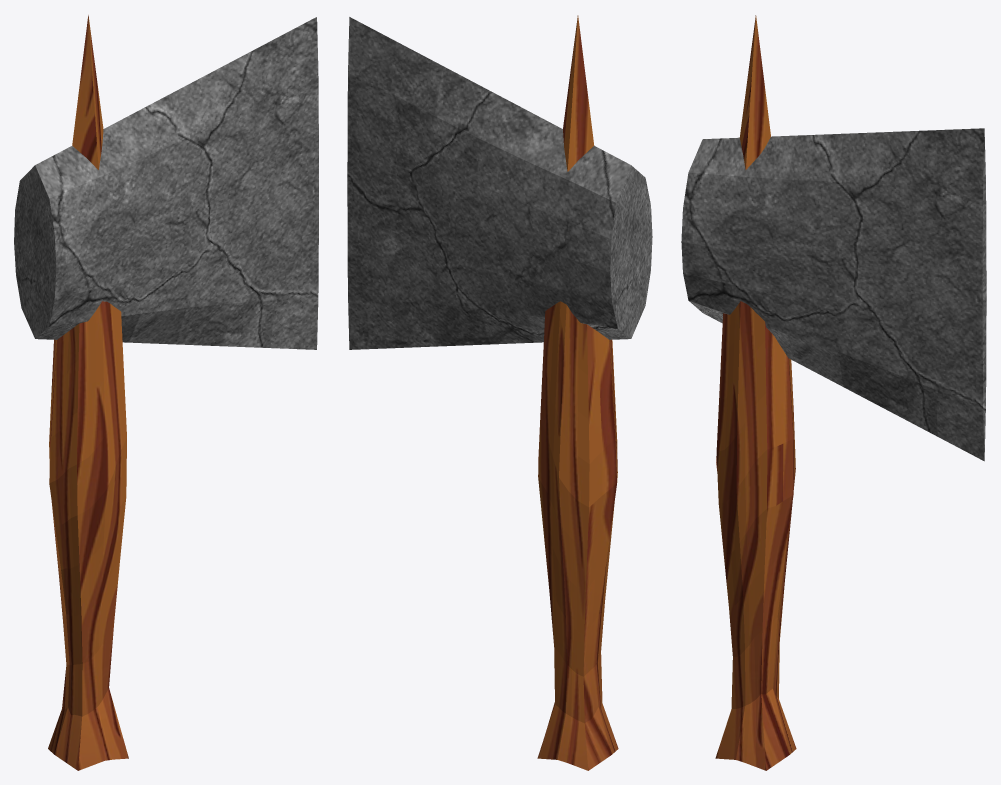
Rendered from PickAxe.fbx.
3 renders of one model, left to right at view 1: azimuth 30°, elevation 25°; view 2: azimuth 150°, elevation 25°; view 3: azimuth 330°, elevation 25°, orthographic.
Visible parts, largest first — view 1: Cone.001 Remeshed; view 2: Cone.001 Remeshed; view 3: Cone.001 Remeshed.
Boxes of the visible parts, left/top/right/bottom form: Cone.001 Remeshed: left=14, top=15, right=318, bottom=770; Cone.001 Remeshed: left=347, top=15, right=652, bottom=770; Cone.001 Remeshed: left=681, top=15, right=986, bottom=770.
Size of the model in its own units: 64.33 by 161 by 16.72.
Materials: 1 (1 with a texture image).
